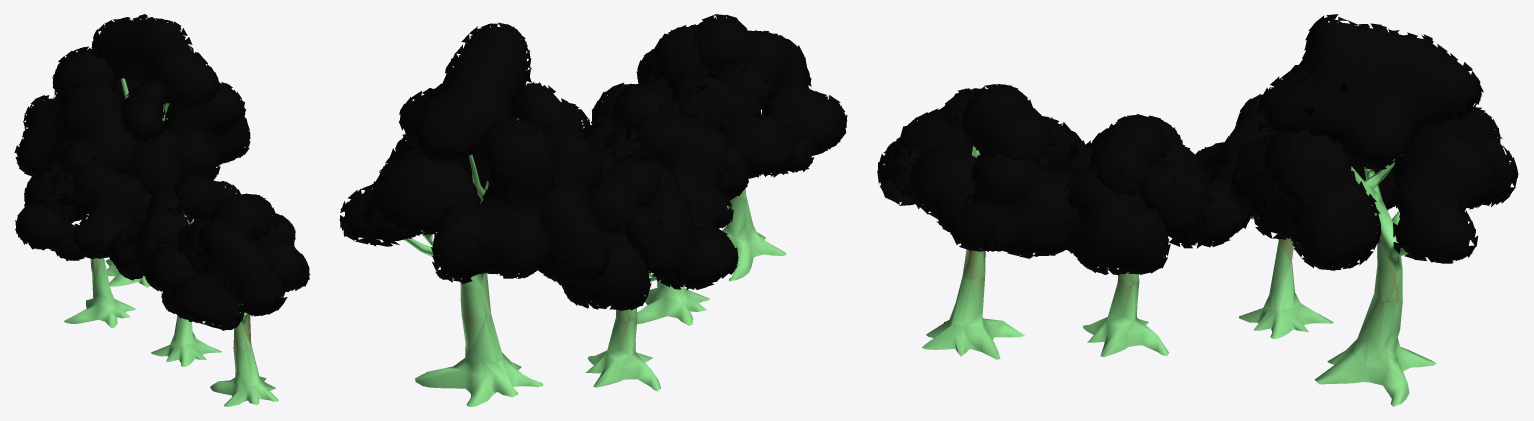
File: SM_ENV_LKNVLD_TreeSet_D_Lod1.gltf
3 views of the same model, side by side, from view 1: azimuth 30°, elevation 25°; view 2: azimuth 150°, elevation 25°; view 3: azimuth 270°, elevation 25° (orthographic). The views are drawn at different scales.
Parts seen in each view (by area): view 1: SM_ENV_LKNVLD_TreeSet_D_Lod1; view 2: SM_ENV_LKNVLD_TreeSet_D_Lod1; view 3: SM_ENV_LKNVLD_TreeSet_D_Lod1.
Part boxes in pixels (x1,y1,x2,y2): SM_ENV_LKNVLD_TreeSet_D_Lod1: [14, 14, 310, 406]; SM_ENV_LKNVLD_TreeSet_D_Lod1: [339, 14, 847, 406]; SM_ENV_LKNVLD_TreeSet_D_Lod1: [877, 14, 1518, 406].
Bounding box in the file's own units: 13.49 × 13.93 × 22.41.
